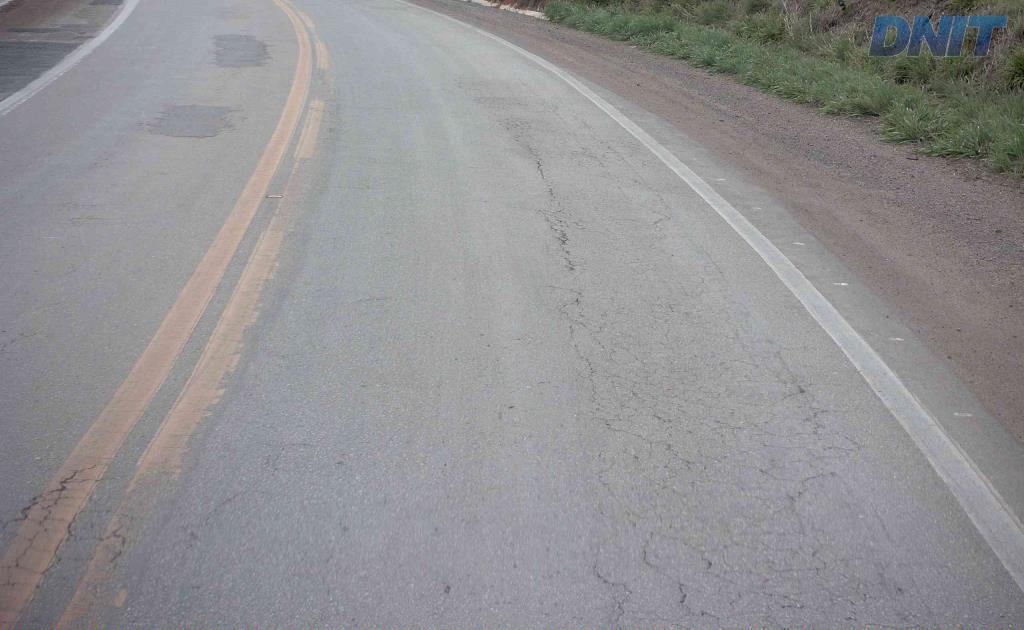crack: (640, 531, 687, 606), (588, 559, 633, 594)
